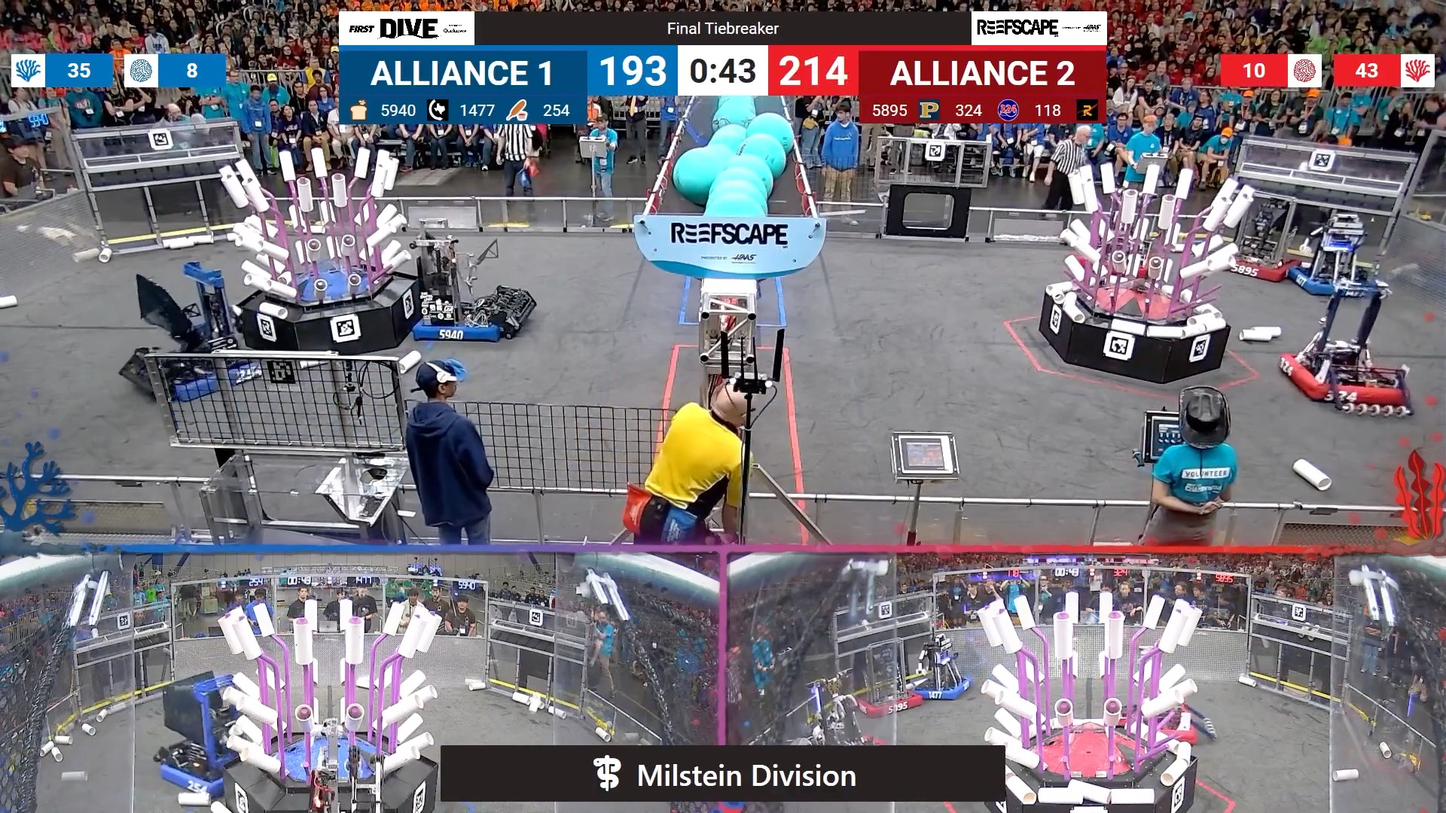bumpers: (1271, 347, 1414, 418), (403, 286, 533, 349), (136, 345, 269, 404), (152, 746, 248, 797), (1219, 246, 1318, 286), (1279, 268, 1386, 304), (851, 688, 932, 717), (906, 675, 977, 702)
